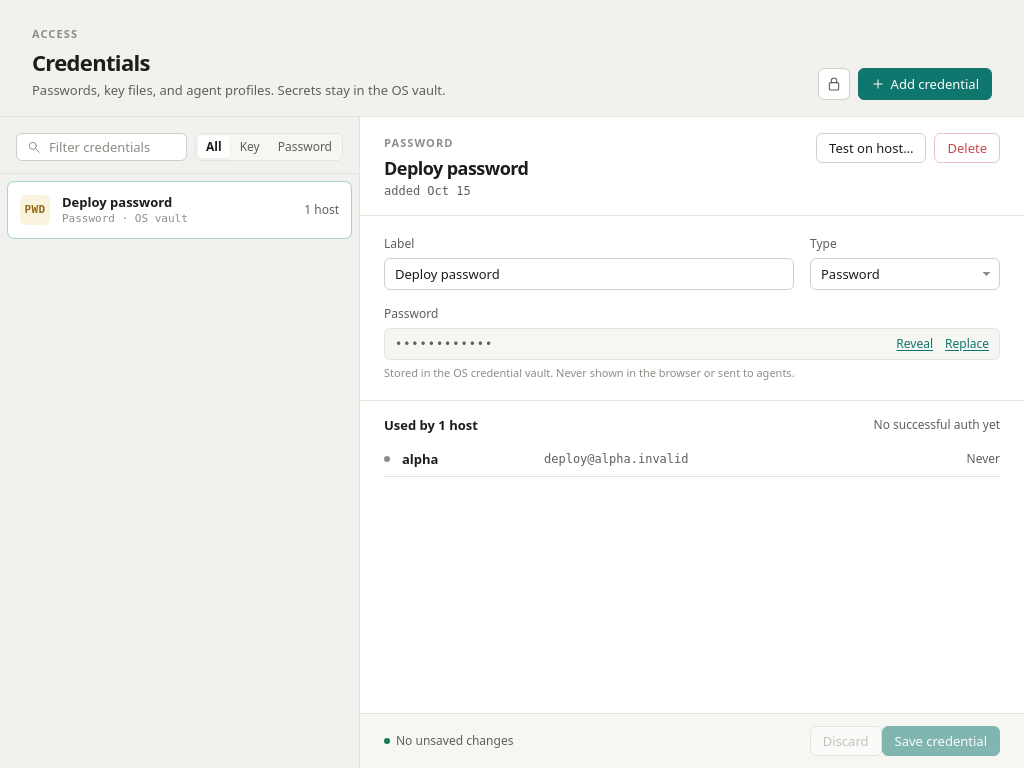
Test: keeps the Type control an editable dropdown while credential types stay fixed
Select "SSH agent" in the dropdown labelled "Type" at (905, 274), box top-left (810, 258), bottom-right (1000, 290)
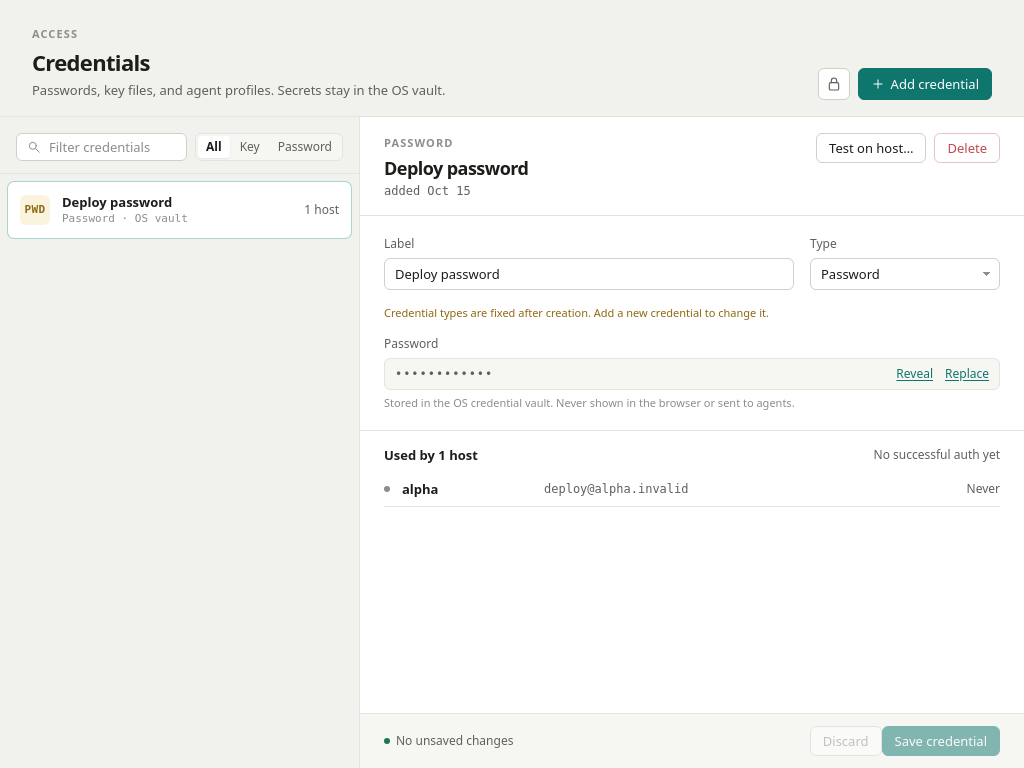
Check: the text "Credential types are fixed after creation. Add a new credential to change it." is shown, box top-left (384, 305), bottom-right (769, 320)
